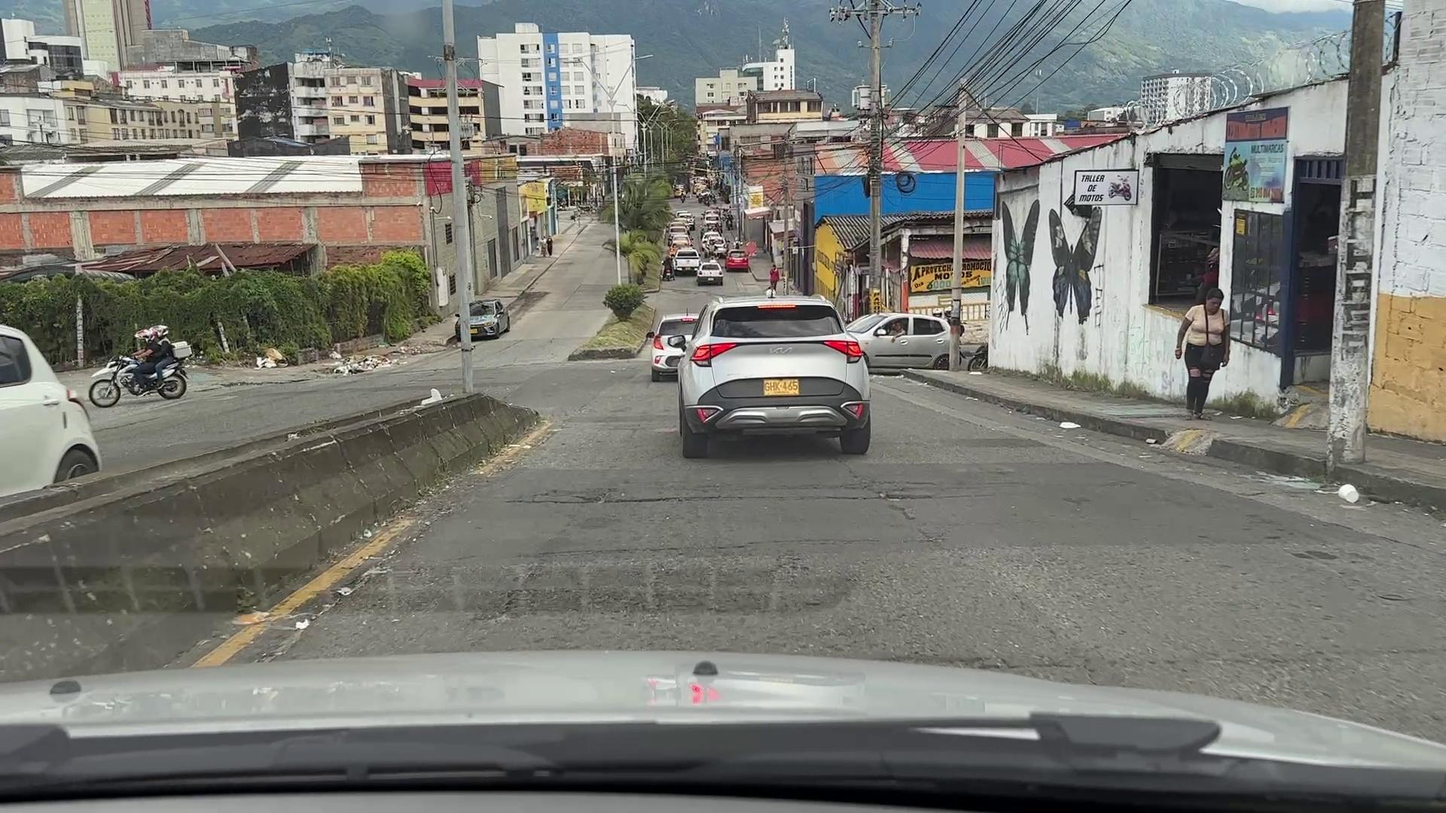bache: (533, 492, 676, 504), (831, 492, 932, 501)
grieta: (770, 456, 937, 493)
